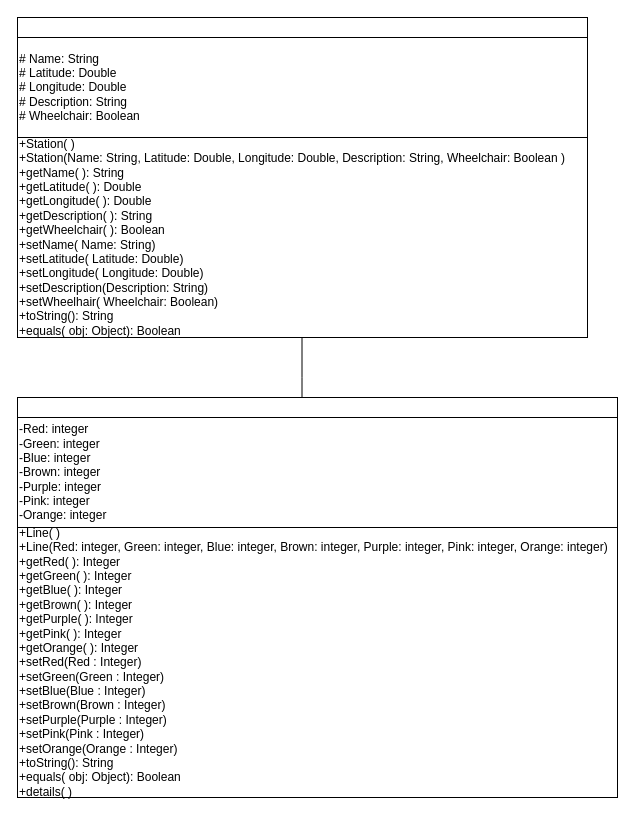
Image size: 635x816. Some labels were removed from this diagram. The centre of each missing label's shape, as x and y in pixels:
"Line" belongs at [317,407].
"Station" belongs at [302,27].
